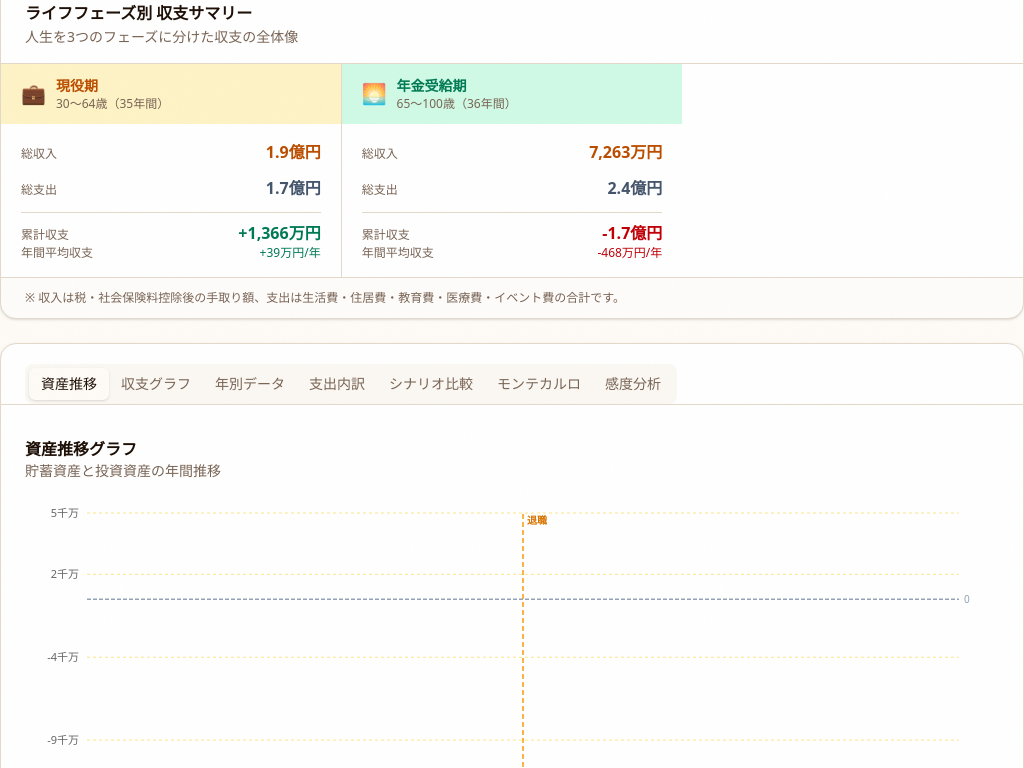
Test: ResultsView annotation branches › the scenario comparison tab renders ScenarioComparison
(page scrolled)
Radix Tabs is pointerdown based, so mouseDown + click
Press the mouse on the tab "シナリオ比較" at (431, 384), box [377, 368, 485, 400]
Press the mouse on the tab "シナリオ比較" at (431, 384), box [377, 368, 485, 400]
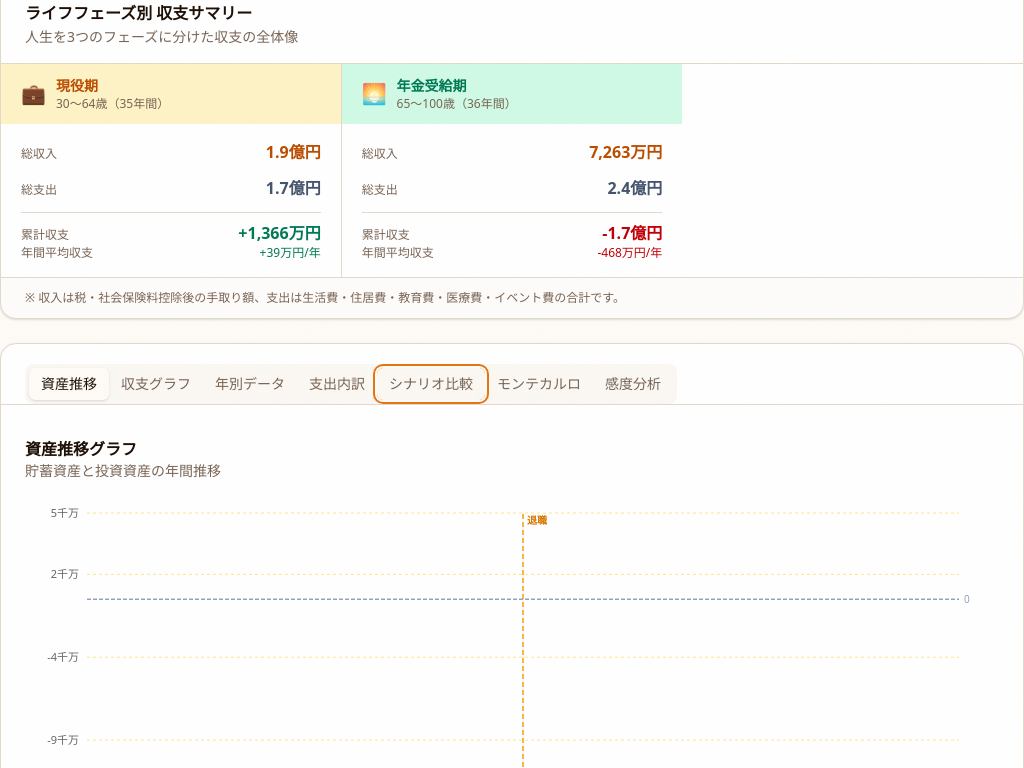
Click the tab "シナリオ比較".
click(431, 384)  # box [377, 368, 485, 400]
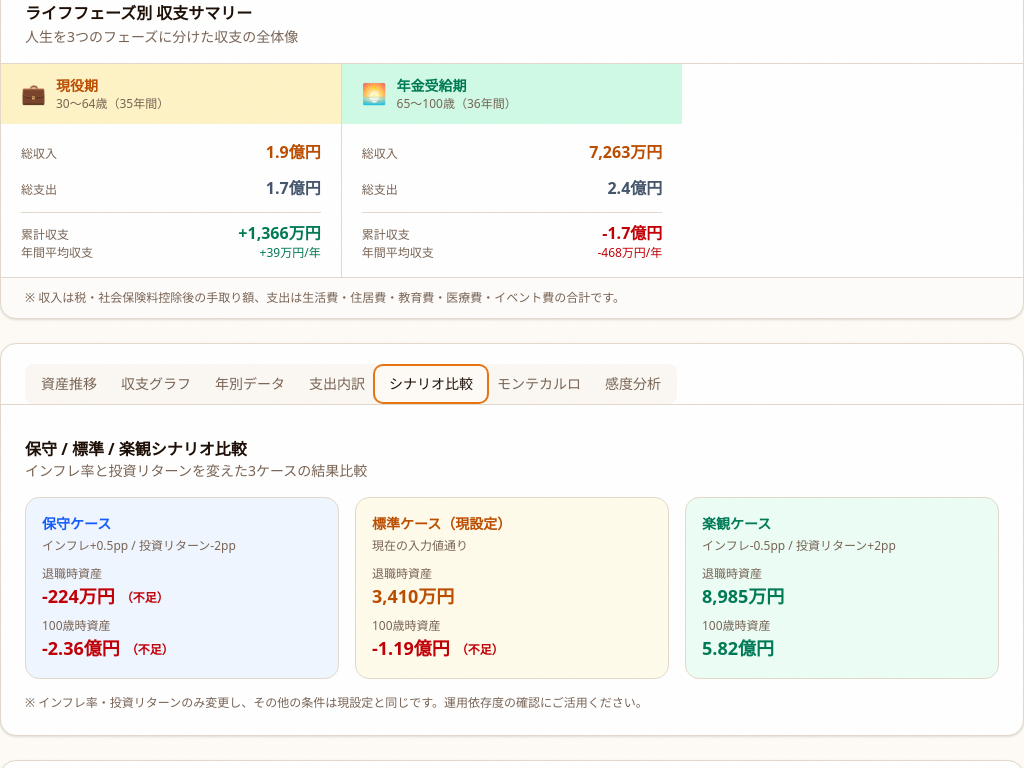
Expected: the text "保守ケース" is shown, [42, 514, 111, 533]
